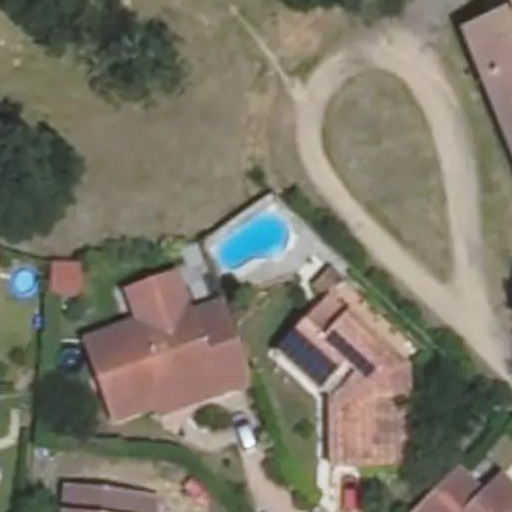pool: (215, 210, 292, 273), (12, 265, 37, 298)
